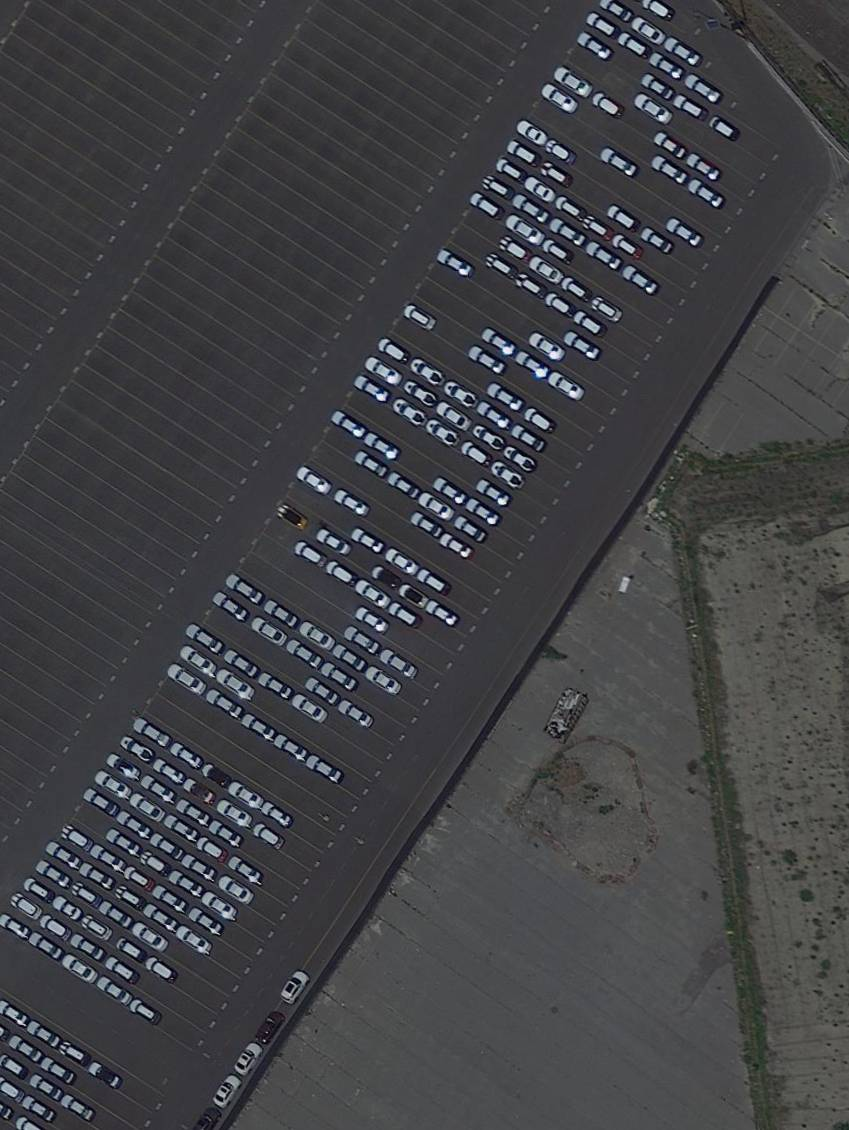small vehicle: (552, 64, 596, 101), (503, 213, 549, 248), (597, 145, 641, 181), (631, 91, 675, 127), (213, 666, 257, 702), (662, 216, 706, 251), (166, 662, 210, 697), (183, 622, 227, 657), (377, 647, 422, 681), (547, 215, 590, 250), (177, 643, 220, 678), (363, 663, 406, 698), (649, 153, 691, 188), (682, 72, 724, 107), (129, 920, 171, 955), (361, 355, 405, 388), (389, 394, 430, 429), (686, 177, 727, 212), (94, 973, 135, 1008), (127, 790, 168, 825), (433, 399, 475, 433), (407, 356, 449, 390), (561, 329, 603, 363), (583, 240, 625, 274), (510, 192, 552, 226), (352, 577, 394, 611), (173, 923, 215, 957), (289, 691, 331, 725), (284, 637, 326, 671), (320, 660, 362, 694), (224, 572, 266, 606), (305, 753, 347, 787), (131, 716, 173, 750), (485, 381, 526, 415), (332, 486, 373, 520), (416, 490, 457, 524), (540, 82, 581, 116), (59, 952, 100, 986), (205, 687, 246, 721), (33, 858, 75, 891), (248, 614, 290, 647), (239, 711, 281, 744), (92, 768, 134, 801), (141, 901, 181, 935), (6, 1032, 46, 1066), (216, 873, 256, 907), (467, 344, 508, 377), (546, 370, 587, 403), (527, 330, 568, 363), (663, 35, 704, 68), (185, 905, 226, 938), (198, 889, 239, 922), (221, 647, 262, 680), (297, 620, 338, 653), (38, 1055, 80, 1087), (341, 624, 383, 656), (424, 417, 464, 450), (442, 378, 482, 411), (480, 326, 520, 359), (488, 458, 528, 491), (382, 546, 422, 579), (620, 264, 660, 297), (212, 590, 252, 623), (303, 675, 343, 708), (361, 430, 402, 462), (435, 248, 476, 280), (43, 840, 84, 872), (88, 843, 129, 875), (215, 798, 256, 830), (314, 527, 356, 558), (57, 821, 96, 854), (103, 954, 142, 987), (162, 812, 201, 845), (401, 378, 441, 410), (473, 478, 513, 510), (290, 540, 330, 572), (527, 254, 567, 286), (97, 899, 137, 931), (103, 827, 143, 859), (26, 1071, 66, 1103), (26, 931, 66, 963), (68, 931, 108, 963), (82, 786, 122, 818), (352, 604, 392, 636), (336, 697, 376, 729), (261, 598, 301, 630), (139, 773, 179, 805), (143, 954, 181, 987), (151, 883, 189, 916), (509, 423, 548, 455), (475, 400, 514, 432), (513, 349, 552, 381), (430, 475, 469, 507), (651, 129, 690, 161), (167, 868, 206, 900), (114, 809, 153, 841), (86, 1060, 125, 1092), (256, 670, 295, 702), (272, 732, 311, 764), (226, 854, 265, 886), (294, 465, 334, 496), (329, 409, 369, 440), (504, 138, 544, 169), (118, 734, 158, 765), (424, 598, 462, 630), (452, 513, 490, 545), (385, 470, 423, 502), (280, 968, 312, 1006), (7, 890, 45, 922), (482, 250, 521, 281), (495, 233, 534, 264), (147, 831, 186, 862), (630, 16, 669, 47), (522, 174, 559, 206), (233, 1040, 265, 1077), (255, 1008, 287, 1045), (105, 751, 142, 783), (501, 443, 539, 474), (375, 335, 413, 366), (416, 567, 454, 598), (353, 448, 391, 479), (465, 496, 503, 527), (572, 308, 610, 339), (685, 152, 723, 183), (576, 31, 614, 62), (512, 271, 550, 302), (468, 191, 506, 222), (59, 1093, 97, 1124), (36, 912, 74, 943), (78, 912, 116, 943), (331, 642, 369, 673), (174, 797, 212, 828), (407, 510, 446, 540), (25, 1020, 64, 1050), (180, 852, 219, 882), (228, 780, 267, 810), (77, 862, 117, 891), (639, 226, 675, 258), (459, 438, 496, 469), (605, 203, 642, 234), (207, 819, 244, 850), (250, 821, 287, 852), (470, 423, 508, 453), (348, 526, 386, 556), (437, 531, 475, 561), (589, 90, 627, 120), (538, 160, 576, 190), (126, 997, 164, 1027), (181, 776, 219, 806), (168, 741, 206, 771), (672, 93, 711, 122), (396, 580, 432, 611), (543, 137, 579, 168), (514, 117, 550, 148), (581, 213, 617, 244), (588, 295, 625, 325), (387, 601, 424, 631), (69, 880, 106, 910), (20, 876, 57, 906), (151, 757, 188, 787), (21, 1095, 59, 1124), (354, 374, 392, 403), (638, 72, 676, 101), (647, 52, 685, 81), (275, 502, 311, 532), (559, 273, 595, 303), (50, 893, 86, 923), (194, 835, 230, 865), (260, 800, 296, 830), (401, 303, 438, 332), (480, 174, 517, 203), (553, 195, 590, 224), (323, 559, 360, 588), (55, 1039, 92, 1068), (523, 406, 558, 436), (542, 291, 577, 321), (610, 232, 645, 262), (138, 849, 173, 879), (540, 237, 576, 266), (113, 884, 149, 913), (121, 864, 157, 893), (584, 11, 621, 39), (212, 1073, 242, 1107), (368, 564, 403, 593), (114, 936, 149, 965), (198, 761, 233, 790), (617, 31, 653, 59), (495, 157, 530, 185), (708, 115, 742, 143), (1, 999, 32, 1028), (1, 1051, 30, 1079), (1, 1075, 27, 1104)
